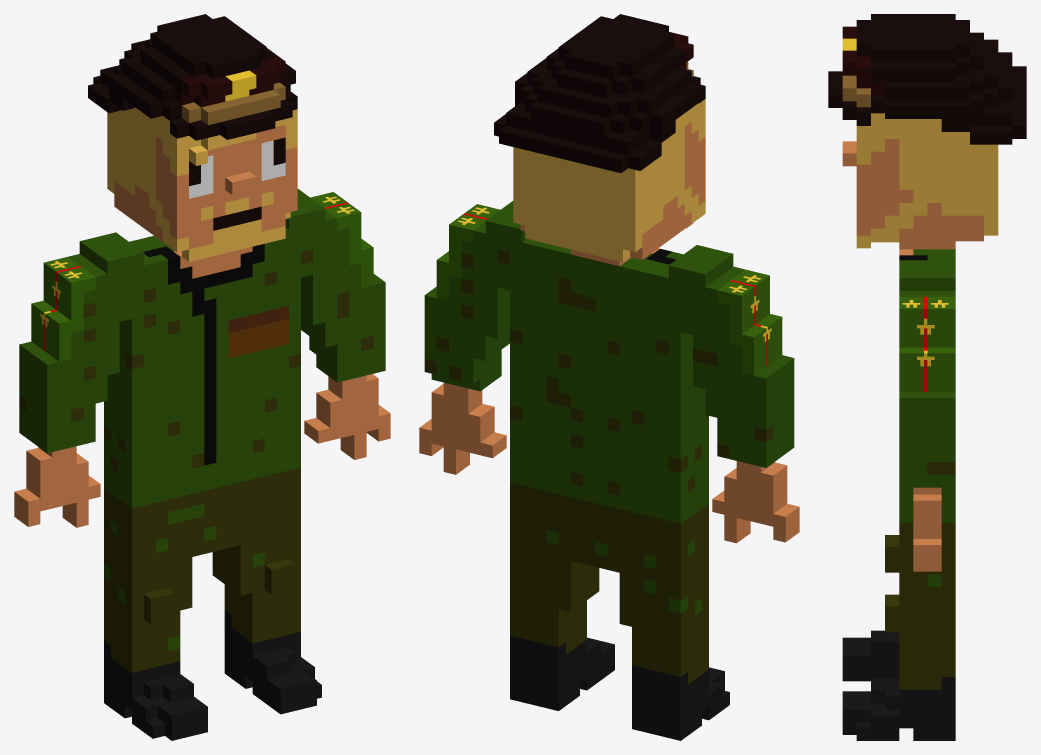
File: 6 Capitan.obj
3 views of the same model, side by side, from view 1: azimuth 30°, elevation 25°; view 2: azimuth 150°, elevation 25°; view 3: azimuth 270°, elevation 25° (orthographic).
Size of the model in its own units: 12 by 20.8 by 5.6.
Materials: 1 (1 with a texture image).
